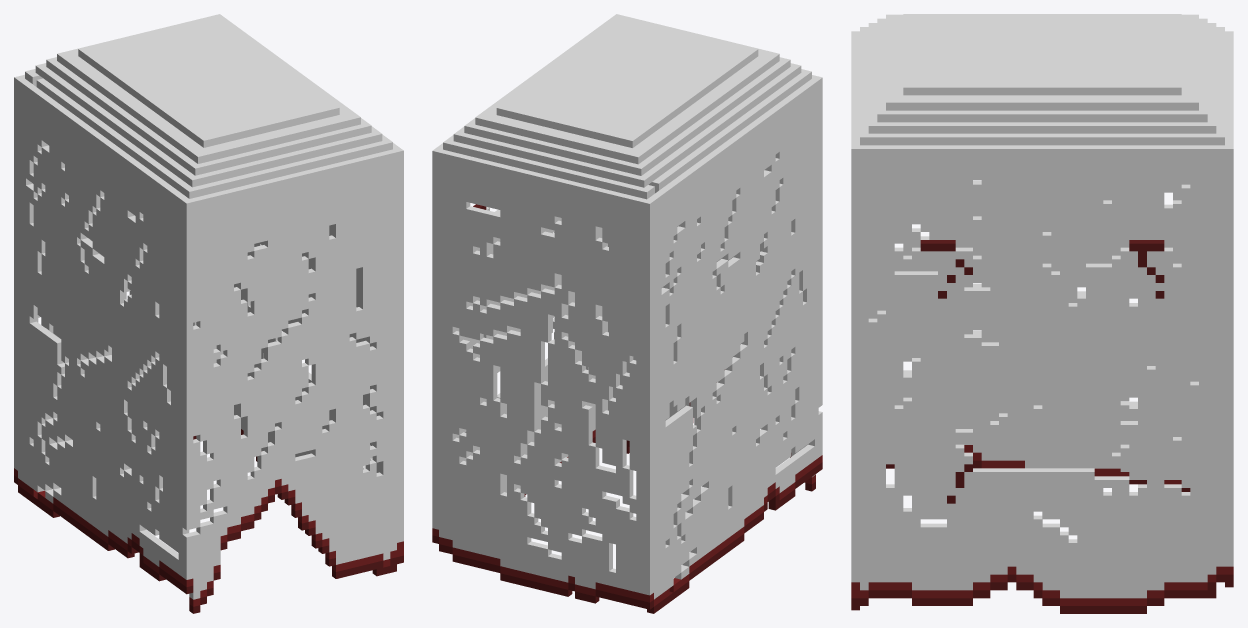
Rendered from Ghost.obj.
The picture shows the model from 3 angles, left to right: view 1: azimuth 30°, elevation 25°; view 2: azimuth 150°, elevation 25°; view 3: azimuth 270°, elevation 25°; orthographic projection. The views are drawn at different scales.
Parts seen in each view (by area): view 1: Ghost; view 2: Ghost; view 3: Ghost.
Boxes of the visible parts, box(x1,y1,x2,y2) form: Ghost: box(14, 14, 403, 613); Ghost: box(432, 14, 822, 613); Ghost: box(851, 14, 1233, 613).
Size of the model in its own units: 32 by 64 by 44.
1 material, 1 textured.
